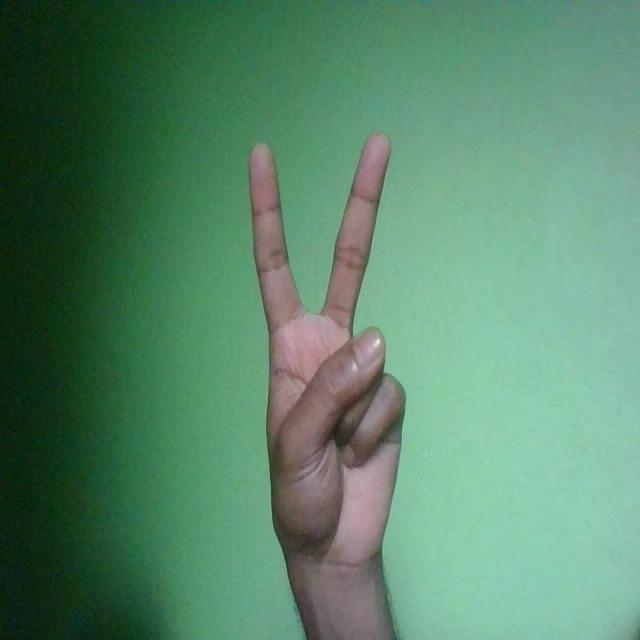Fist: (248, 129, 407, 580)
